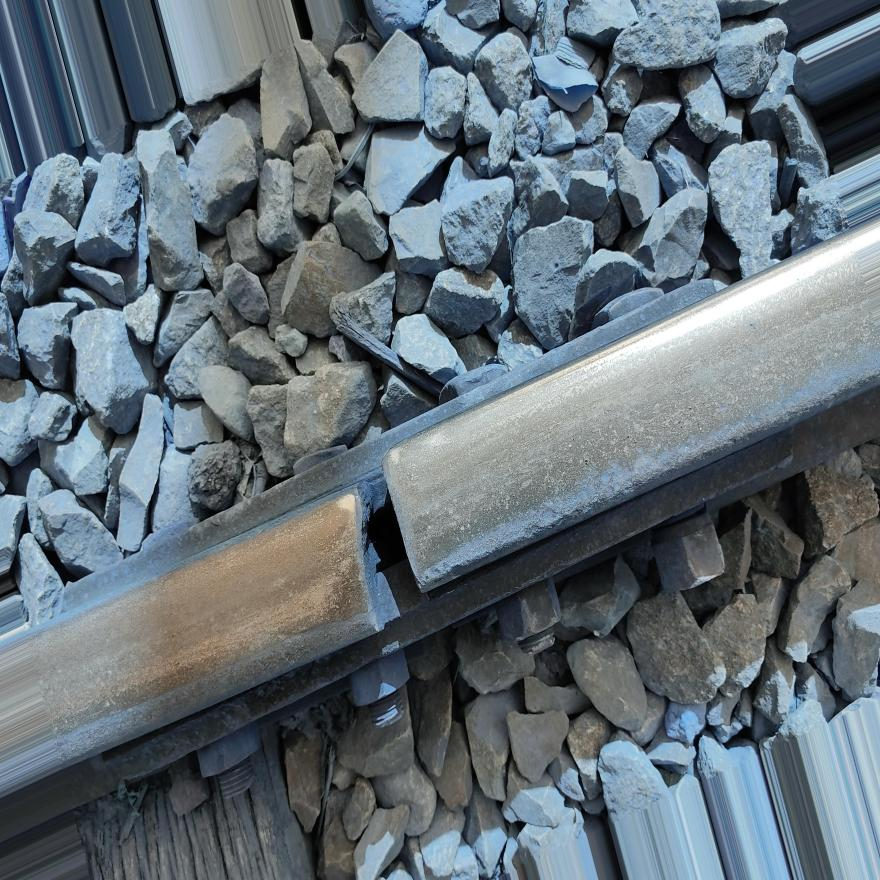railway-gap: (308, 444, 465, 648)
